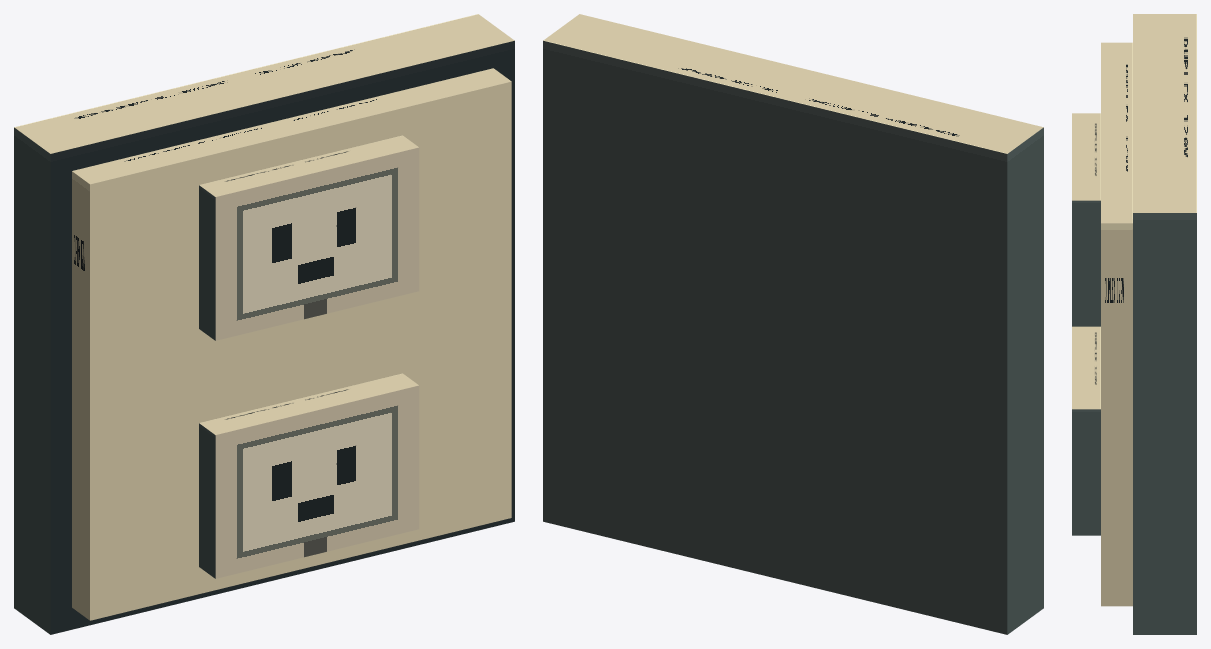
File: enchufe_doble.glb
3 renders of one model, left to right at view 1: azimuth 30°, elevation 25°; view 2: azimuth 150°, elevation 25°; view 3: azimuth 270°, elevation 25°, orthographic. The views are drawn at different scales.
Parts seen in each view (by area): view 1: ELECTRICO; view 2: ELECTRICO; view 3: ELECTRICO.
Boxes of the visible parts, <box> form: ELECTRICO: <box>14,14,514,634</box>; ELECTRICO: <box>543,14,1043,634</box>; ELECTRICO: <box>1072,14,1196,634</box>.
Size of the model in its own units: 0.224 by 0.2217 by 0.0594.
Materials: 1 (1 with a texture image).
